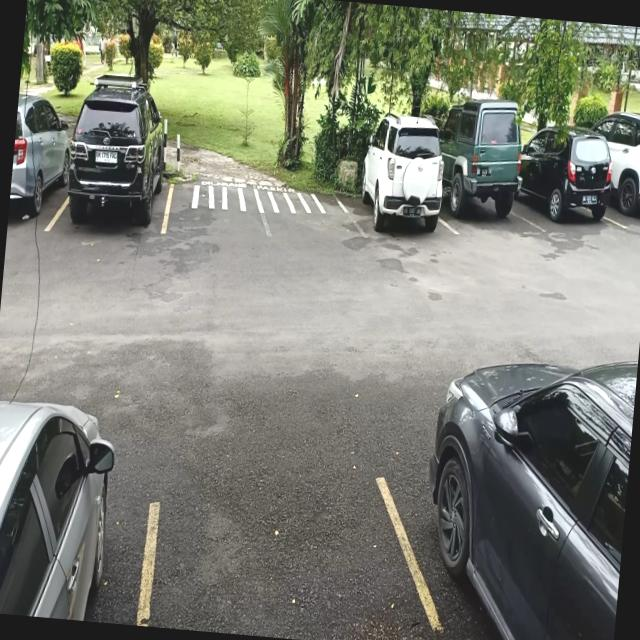occupied: (46, 109, 178, 252), (350, 139, 452, 245), (519, 138, 616, 238), (438, 130, 526, 240)
